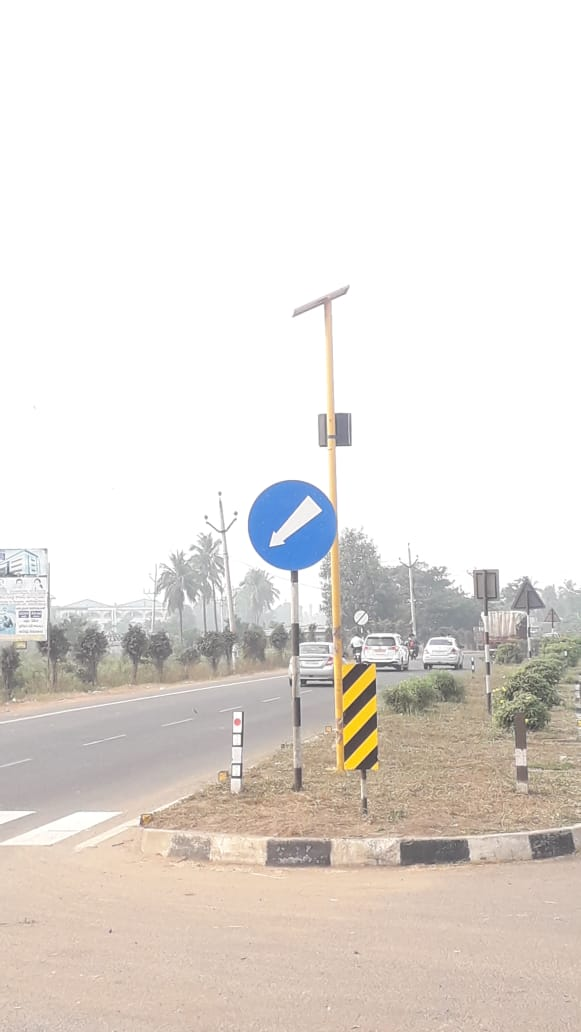go left: (240, 474, 369, 587)
